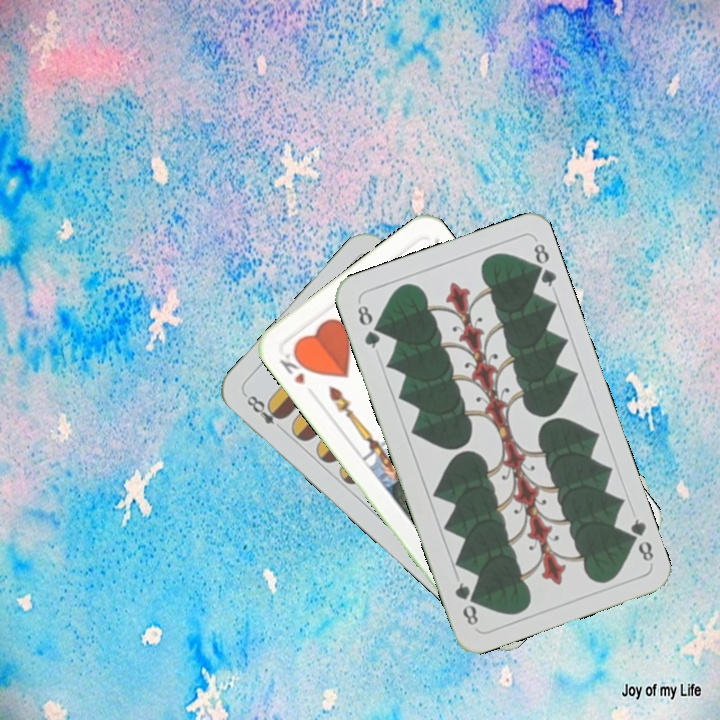E8: (240, 390, 288, 435)
G8: (621, 514, 657, 564), (353, 298, 383, 351)
HK: (275, 346, 313, 388)
